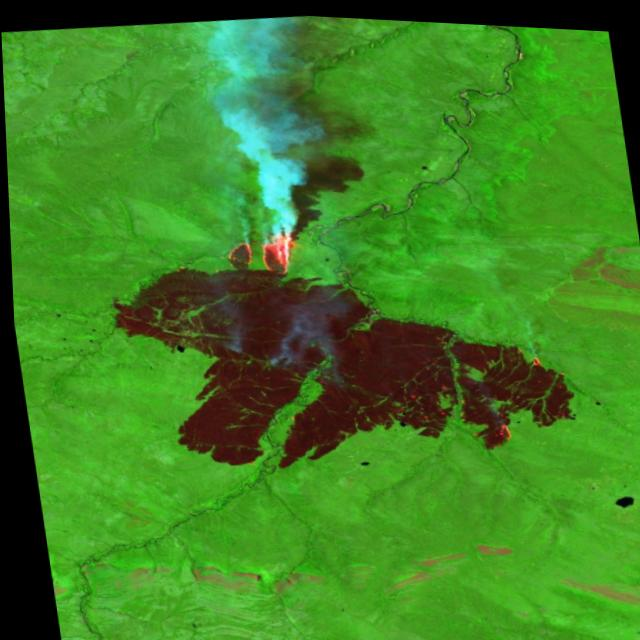fire: (206, 216, 306, 281), (474, 396, 513, 442)
